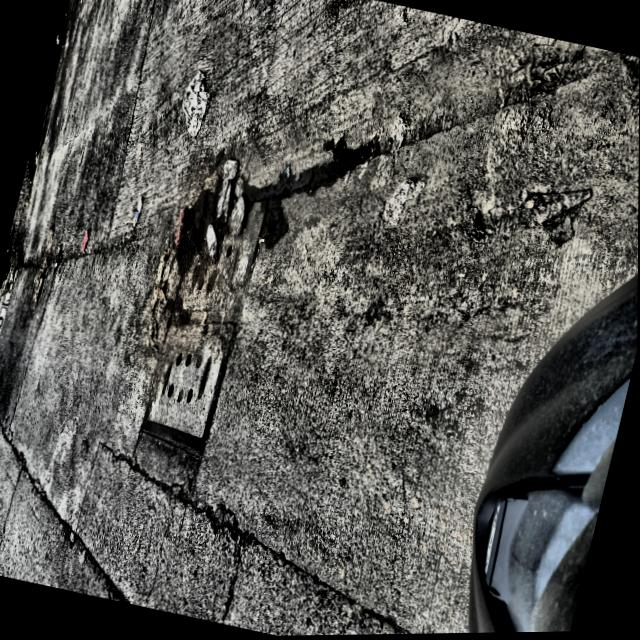clogged_drains: (142, 174, 266, 451)
